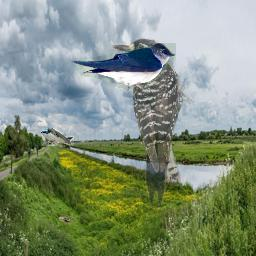Swallow: (72, 43, 176, 94), (41, 128, 74, 146)
Woodpecker: (111, 38, 196, 210)
